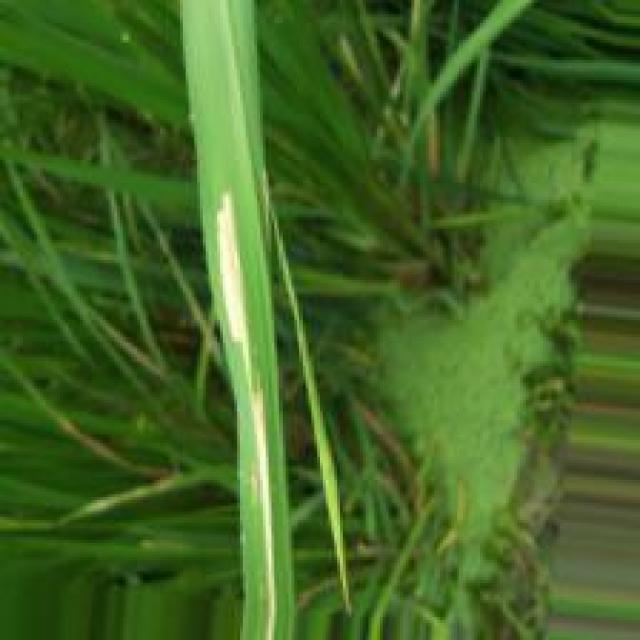Rice_Hispa: (212, 193, 274, 578)
